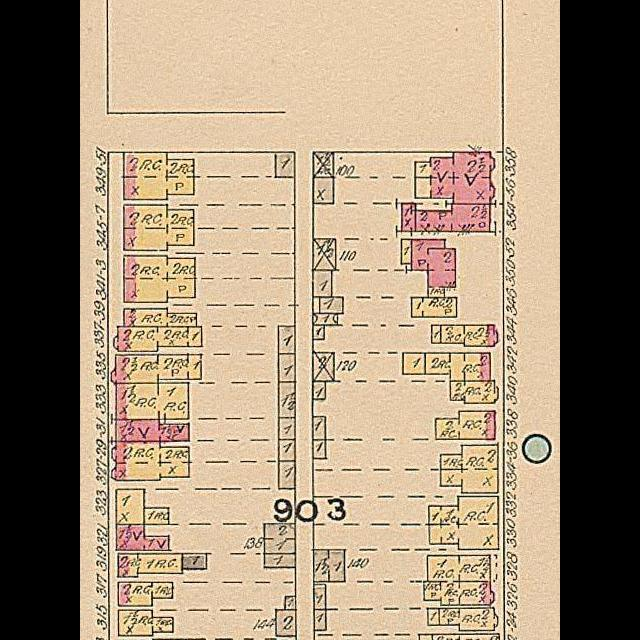building-footprints: (415, 151, 495, 204), (429, 496, 499, 549), (424, 555, 494, 604), (124, 151, 194, 199), (124, 255, 195, 302), (124, 205, 194, 250), (112, 441, 189, 480), (441, 444, 498, 493), (116, 383, 189, 419), (112, 354, 201, 383), (114, 326, 202, 351), (415, 203, 490, 232), (411, 239, 456, 287), (425, 352, 490, 380), (436, 411, 495, 439), (116, 419, 189, 441), (118, 553, 183, 577), (116, 524, 169, 550), (118, 610, 173, 635), (265, 523, 296, 567), (439, 607, 497, 630), (118, 582, 172, 606), (124, 309, 196, 326), (441, 325, 498, 346), (450, 380, 498, 403), (313, 549, 345, 581), (116, 488, 144, 524), (412, 297, 456, 317), (313, 238, 336, 269), (279, 381, 296, 417), (313, 352, 334, 380), (313, 151, 334, 177), (313, 177, 334, 203), (276, 609, 296, 636), (313, 270, 332, 297), (275, 151, 295, 176), (403, 352, 425, 374), (279, 353, 295, 382), (433, 633, 499, 640), (278, 326, 295, 353), (279, 461, 295, 488), (144, 507, 169, 524), (401, 203, 416, 231), (182, 553, 207, 569), (320, 297, 343, 313), (279, 417, 295, 439), (279, 439, 295, 460), (313, 584, 326, 609), (313, 313, 338, 325), (313, 416, 325, 440), (314, 609, 326, 630), (313, 439, 326, 458), (401, 239, 411, 263), (313, 381, 326, 399), (428, 608, 439, 625), (431, 325, 441, 343), (428, 286, 444, 297), (313, 324, 324, 339), (285, 596, 296, 609), (419, 634, 433, 640)
